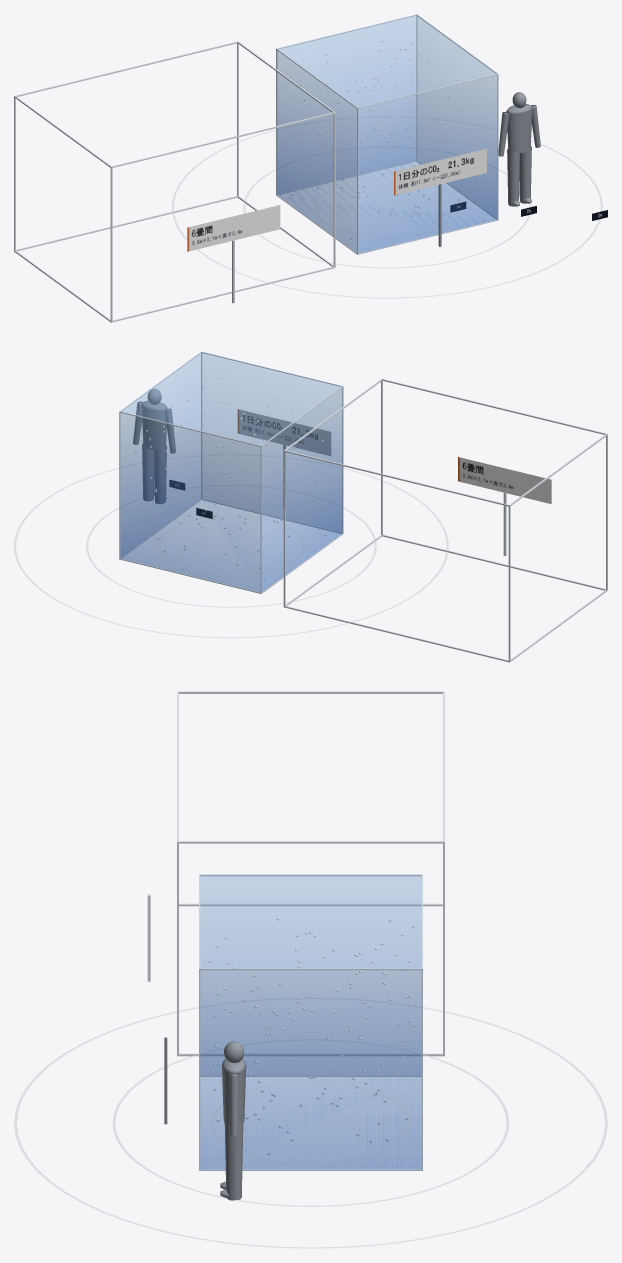
Rendered from cube_day.glb.
The picture shows the model from 3 angles, top to bottom: view 1: azimuth 30°, elevation 25°; view 2: azimuth 150°, elevation 25°; view 3: azimuth 270°, elevation 25°; orthographic projection. The views are drawn at different scales.
Visible parts, largest first — view 1: co2, room, person, white, edge, roomlabel, label, dots; view 2: co2, room, white, person, edge, roomlabel, label, dots; view 3: co2, white, room, edge, person, dots.
Part boxes in pixels (x1,y1,x2,y2): co2: [277, 15, 497, 253]; room: [14, 41, 335, 322]; person: [498, 92, 540, 206]; white: [171, 116, 602, 298]; edge: [276, 14, 498, 254]; roomlabel: [187, 205, 280, 251]; label: [394, 148, 486, 195]; dots: [284, 40, 479, 239]; co2: [120, 352, 342, 592]; room: [283, 378, 607, 662]; white: [14, 454, 448, 638]; person: [133, 388, 175, 503]; edge: [119, 351, 343, 593]; roomlabel: [458, 457, 551, 503]; label: [237, 409, 331, 456]; dots: [135, 377, 328, 579]; co2: [200, 875, 421, 1169]; white: [14, 997, 607, 1248]; room: [147, 691, 444, 1056]; edge: [199, 874, 422, 1170]; person: [220, 1041, 246, 1200]; dots: [208, 918, 416, 1155].
Bounding box in the file's own units: 8.26 × 2.4 × 6.03.
Materials: 10 (4 with a texture image).
